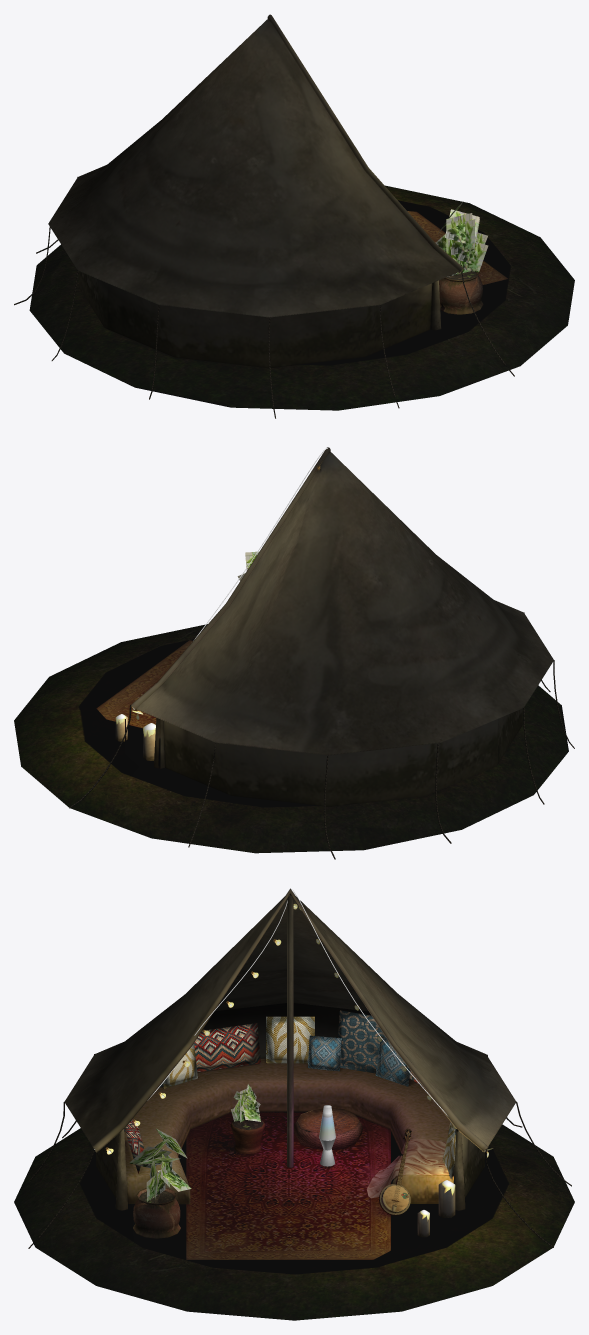
The model's file is FancyTent.obj.
The picture shows the model from 3 angles, top to bottom: view 1: azimuth 30°, elevation 25°; view 2: azimuth 150°, elevation 25°; view 3: azimuth 270°, elevation 25°; orthographic projection.
Parts seen in each view (by area): view 1: tent.001_Tent_0, Sphere.001_ground2_0, Plane.010_plant_0, plantpot_small_props_0, ROPES_floor_0, carpet_floor_0; view 2: tent.001_Tent_0, Sphere.001_ground2_0, carpet_floor_0, ROPES_floor_0; view 3: tent.001_Tent_0, Sphere.001_ground2_0, carpet_floor_0, pillow1.009_TT_material_override-pillow1.009_0, blanket_small_props_0, plantpot_small_props_0, pole_small_props_0, pouf_small_props_0, Plane.010_plant_0, Cylinder.005_Banjo_0, Plane.001_small_props_0, ROPES_floor_0 (+5 smaller).
Part boxes in pixels (bbox=[...]): tent.001_Tent_0: bbox=[48, 14, 463, 368]; Sphere.001_ground2_0: bbox=[29, 185, 574, 410]; Plane.010_plant_0: bbox=[435, 201, 488, 276]; plantpot_small_props_0: bbox=[439, 271, 483, 314]; ROPES_floor_0: bbox=[14, 177, 514, 418]; carpet_floor_0: bbox=[407, 210, 507, 284]; tent.001_Tent_0: bbox=[131, 447, 553, 807]; Sphere.001_ground2_0: bbox=[14, 624, 568, 853]; carpet_floor_0: bbox=[96, 640, 192, 728]; ROPES_floor_0: bbox=[69, 612, 574, 859]; tent.001_Tent_0: bbox=[64, 888, 516, 1210]; Sphere.001_ground2_0: bbox=[14, 1124, 574, 1320]; carpet_floor_0: bbox=[186, 1111, 390, 1259]; pillow1.009_TT_material_override-pillow1.009_0: bbox=[124, 1010, 456, 1178]; blanket_small_props_0: bbox=[366, 1139, 454, 1198]; plantpot_small_props_0: bbox=[133, 1188, 180, 1238]; pole_small_props_0: bbox=[287, 894, 293, 1167]; pouf_small_props_0: bbox=[293, 1108, 362, 1149]; Plane.010_plant_0: bbox=[129, 1128, 191, 1202]; Cylinder.005_Banjo_0: bbox=[379, 1128, 411, 1215]; Plane.001_small_props_0: bbox=[230, 1120, 265, 1153]; ROPES_floor_0: bbox=[28, 1054, 571, 1248].
Size of the model in its own units: 7.5 by 4.36 by 7.32.
Materials: 9 (8 with a texture image).
